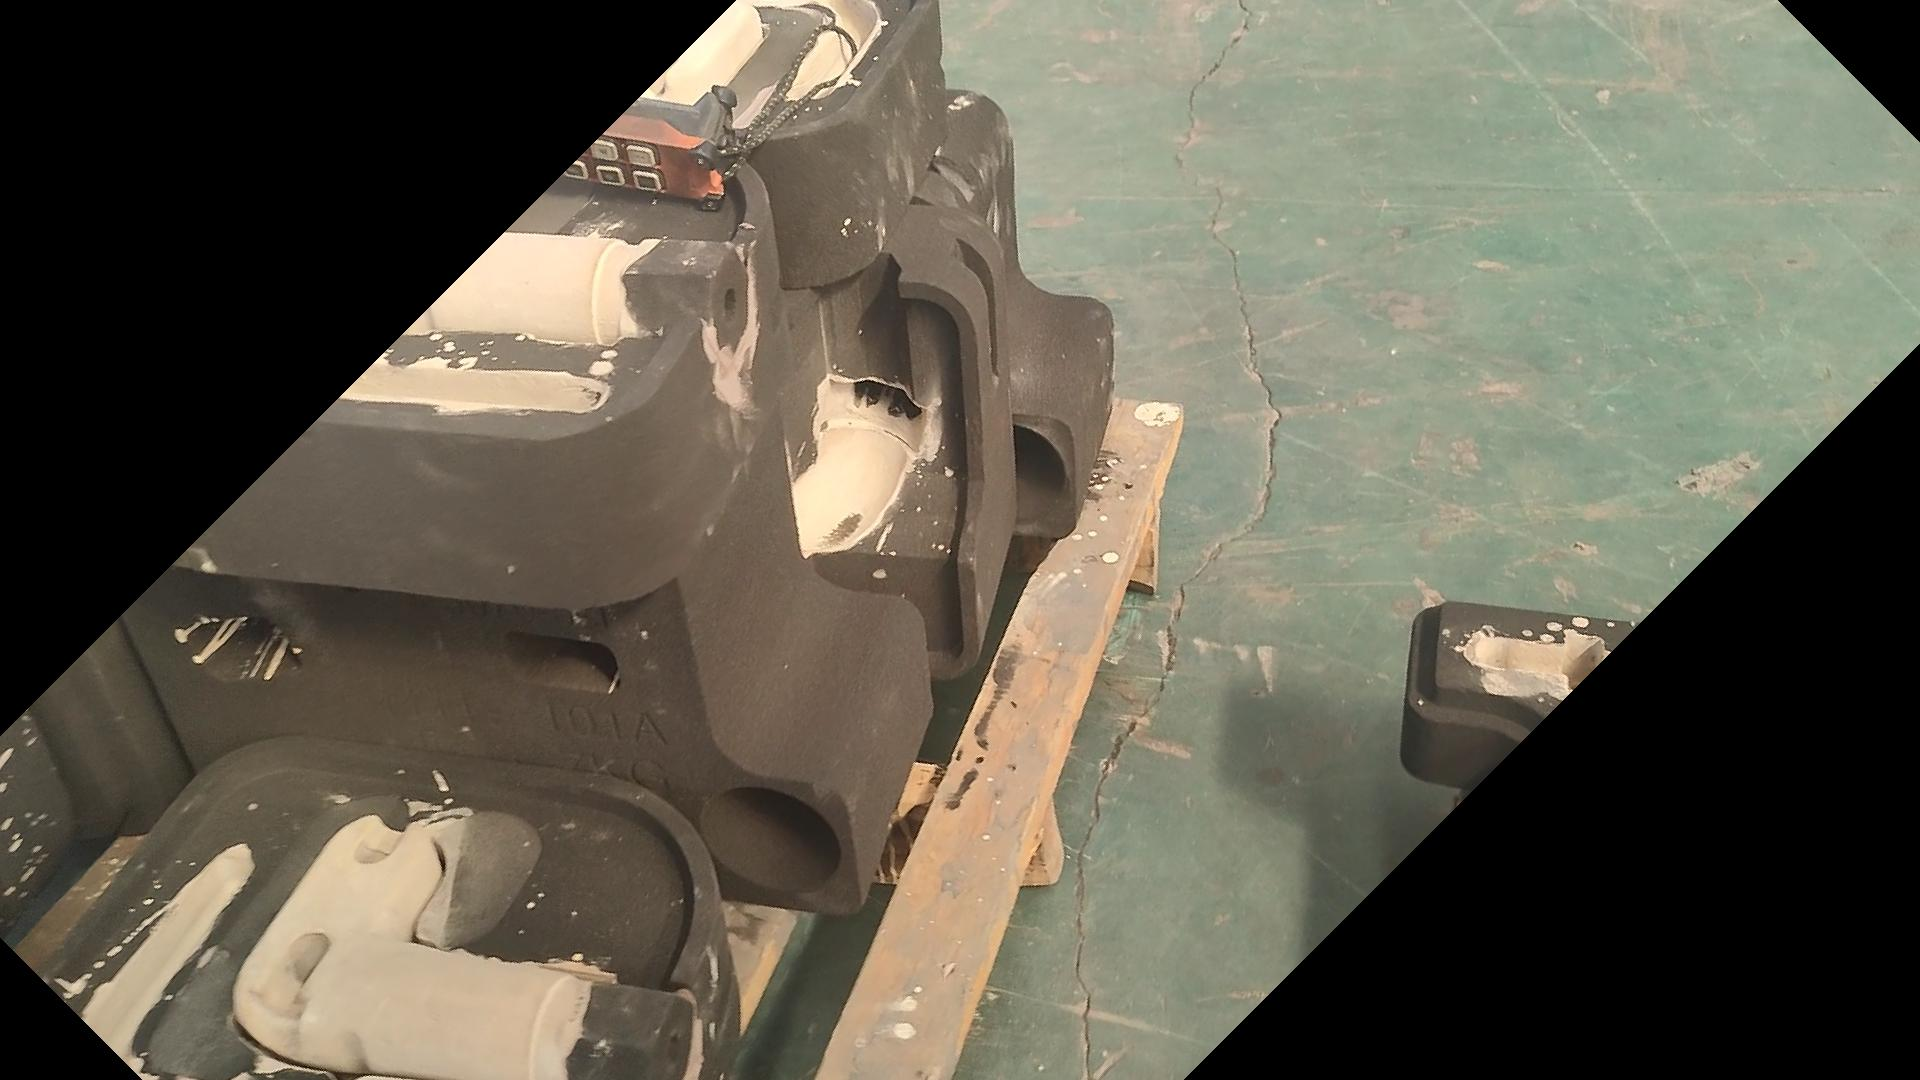pouring hole: (700, 785, 843, 893), (943, 422, 1067, 529)
